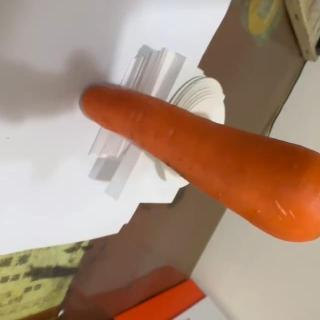carrot: (79, 81, 320, 244)
